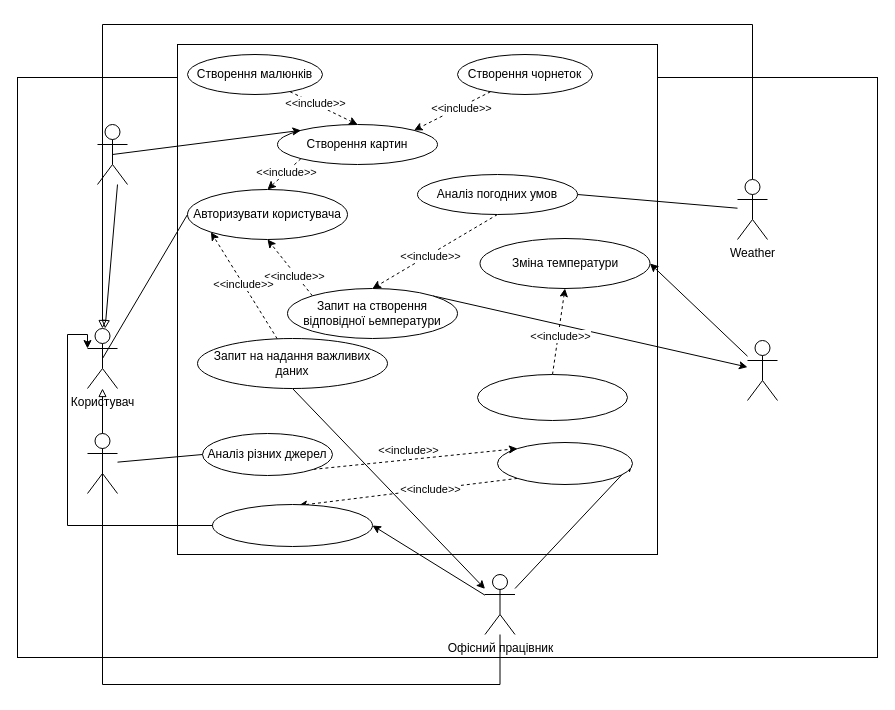
The diagram is 895 pixels wide and 710 high, and some of its shapes have lost their labels. Here are the shapes that lost their labels. From the top down, the box of each, then its label:
(96, 124, 128, 184): Художник-споживач
(746, 340, 778, 400): Технічний персонал
(476, 374, 628, 420): Попередня перевірка середовища
(86, 432, 118, 494): FamLib
(496, 442, 632, 484): Пошук необхідних даних
(212, 504, 372, 546): Надання доступу до знайдених даних
